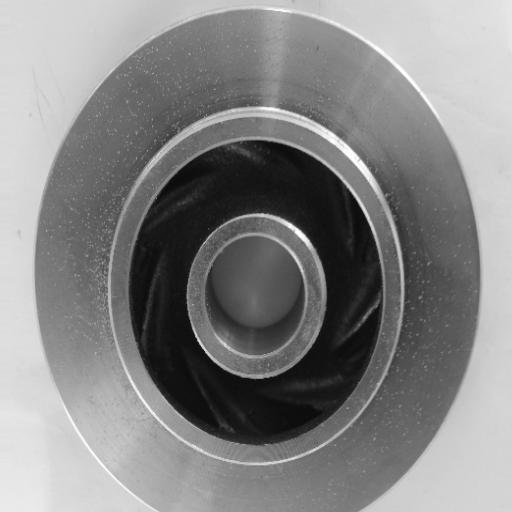polished_casting: (33, 8, 482, 512)
